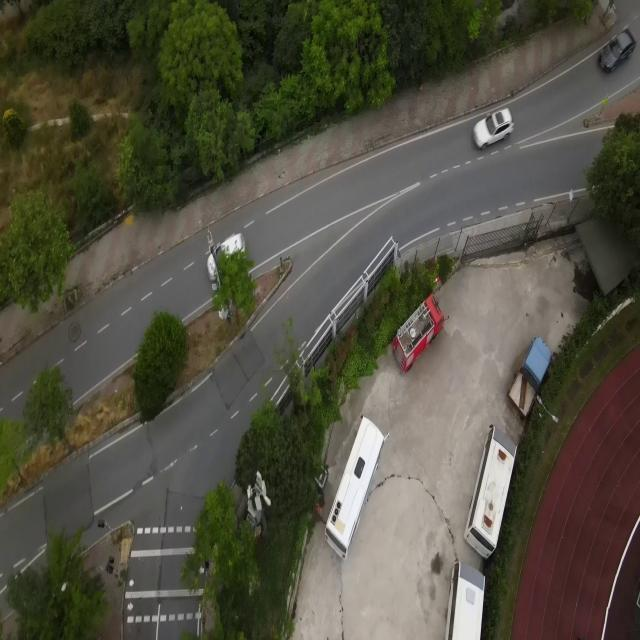vehicle: (325, 415, 385, 557), (462, 423, 518, 560), (392, 292, 445, 373), (508, 336, 552, 418), (446, 561, 486, 640), (207, 232, 246, 281), (473, 106, 514, 148), (599, 28, 636, 74)
